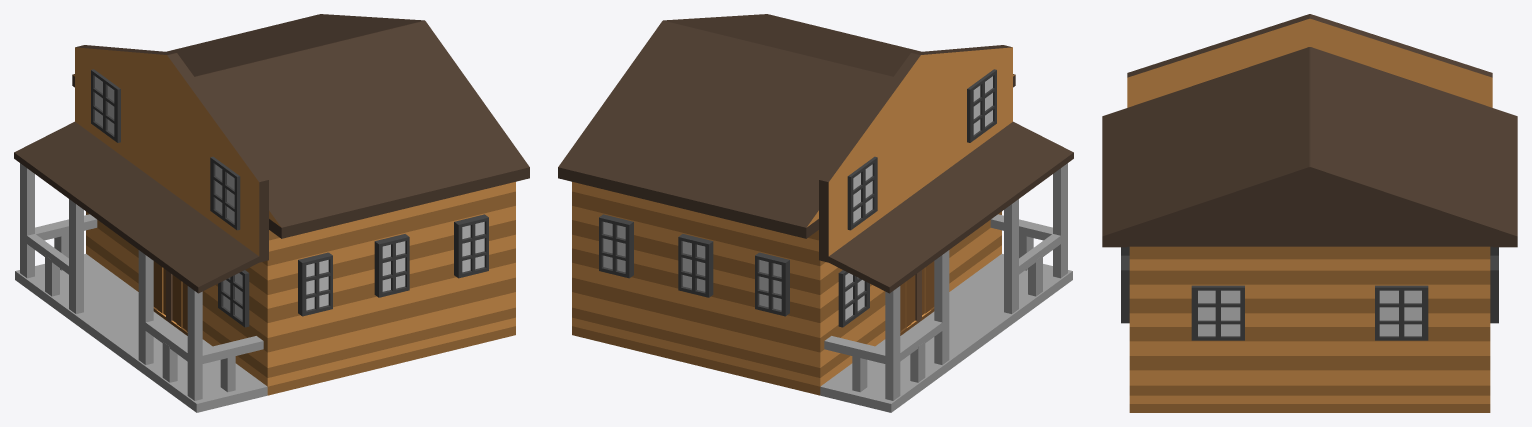
Rendered from wideHouse.fbx.
3 views of the same model, side by side, from view 1: azimuth 30°, elevation 25°; view 2: azimuth 150°, elevation 25°; view 3: azimuth 270°, elevation 25° (orthographic).
Parts seen in each view (by area): view 1: wideHouse; view 2: wideHouse; view 3: wideHouse.
Boxes of the visible parts, x1,y1,x2,y2 form: wideHouse: [14, 14, 529, 412]; wideHouse: [558, 14, 1073, 412]; wideHouse: [1102, 14, 1517, 412].
Bounding box in the file's own units: 20.22 × 16.49 × 22.65.
